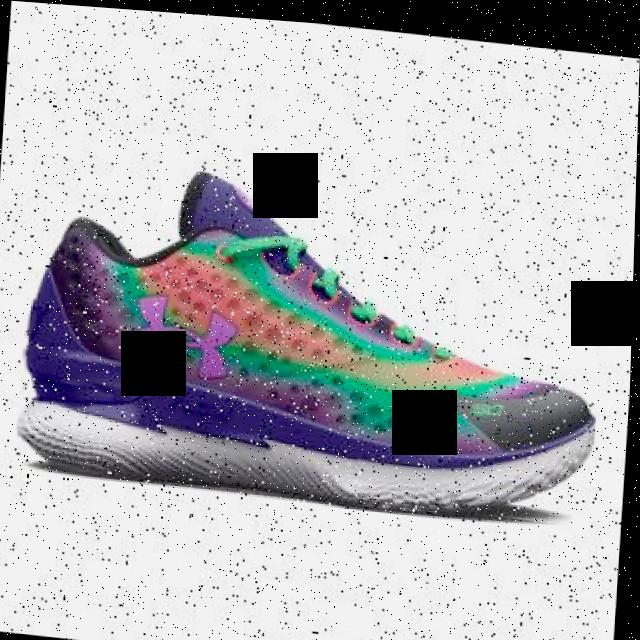shoe: (17, 152, 610, 522)
